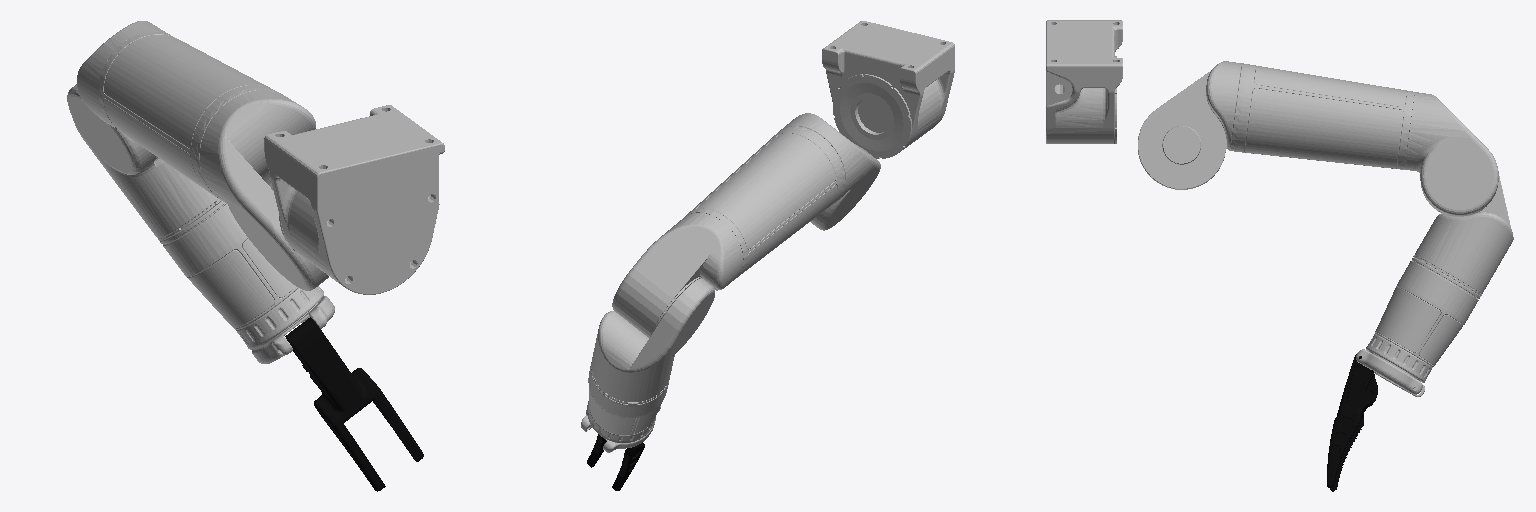
robot.urdf — RS2-1032-segmented-def.SLDASM:
<?xml version="1.0"?>
<!-- This URDF was automatically created by SolidWorks to URDF Exporter! Originally created by [author] ([email redacted]) 
     Commit Version: 1.5.1-0-g916b5db  Build Version: 1.5.7152.31018
     For more information, please see http://wiki.ros.org/sw_urdf_exporter -->
<robot
  name="RS2-1032-segmented-def.SLDASM">
  <link
    name="base_link">
    <inertial>
      <origin
        xyz="0.00016483 0.016209 -0.031073"
        rpy="0 0 0" />
      <mass
        value="1.9526" />
      <inertia
        ixx="0.0025846"
        ixy="2.75E-06"
        ixz="3.4699E-06"
        iyy="0.0022058"
        iyz="8.7505E-05"
        izz="0.0033254" />
    </inertial>
    <visual>
      <origin
        xyz="0 0 0"
        rpy="0 0 0" />
      <geometry>
        <mesh
          filename="package://RS2-1032-segmented-def.SLDASM/meshes/base_link.STL" />
      </geometry>
      <material
        name="">
        <color
          rgba="0.75294 0.75294 0.75294 1" />
      </material>
    </visual>
    <collision>
      <origin
        xyz="0 0 0"
        rpy="0 0 0" />
      <geometry>
        <mesh
          filename="package://RS2-1032-segmented-def.SLDASM/meshes/base_link.STL" />
      </geometry>
    </collision>
  </link>
  <link
    name="1013_base_def_link">
    <inertial>
      <origin
        xyz="0.00846442048222188 -0.0244828952793989 -0.0604426144580424"
        rpy="0 0 0" />
      <mass
        value="2.06786570255906" />
      <inertia
        ixx="0.00330228576538137"
        ixy="0.000296034252344081"
        ixz="0.000245877108833608"
        iyy="0.00216229029272983"
        iyz="-0.000684378910293875"
        izz="0.00283007907340177" />
    </inertial>
    <visual>
      <origin
        xyz="0 0 0"
        rpy="0 0 0" />
      <geometry>
        <mesh
          filename="package://RS2-1032-segmented-def.SLDASM/meshes/1013_base_def_link.STL" />
      </geometry>
      <material
        name="">
        <color
          rgba="0.752941176470588 0.752941176470588 0.752941176470588 1" />
      </material>
    </visual>
    <collision>
      <origin
        xyz="0 0 0"
        rpy="0 0 0" />
      <geometry>
        <mesh
          filename="package://RS2-1032-segmented-def.SLDASM/meshes/1013_base_def_link.STL" />
      </geometry>
    </collision>
  </link>
  <joint
    name="1013_base_def"
    type="continuous">
    <origin
      xyz="0 0.05395 0"
      rpy="1.5708 -0.46319 0" />
    <parent
      link="base_link" />
    <child
      link="1013_base_def_link" />
    <axis
      xyz="0 0 1" />
  </joint>
  <link
    name="1013_to_1015_Link">
    <inertial>
      <origin
        xyz="-0.000487514879235436 -0.0369953948620713 0.151825587376245"
        rpy="0 0 0" />
      <mass
        value="5.09011902544766" />
      <inertia
        ixx="0.0126488889907415"
        ixy="0.000211984162224523"
        ixz="-0.000505692002205725"
        iyy="0.0114931112639823"
        iyz="6.52340603510238E-05"
        izz="0.00531786957771513" />
    </inertial>
    <visual>
      <origin
        xyz="0 0 0"
        rpy="0 0 0" />
      <geometry>
        <mesh
          filename="package://RS2-1032-segmented-def.SLDASM/meshes/1013_to_1015_Link.STL" />
      </geometry>
      <material
        name="">
        <color
          rgba="0.752941176470588 0.752941176470588 0.752941176470588 1" />
      </material>
    </visual>
    <collision>
      <origin
        xyz="0 0 0"
        rpy="0 0 0" />
      <geometry>
        <mesh
          filename="package://RS2-1032-segmented-def.SLDASM/meshes/1013_to_1015_Link.STL" />
      </geometry>
    </collision>
  </link>
  <joint
    name="1013_to_1015"
    type="continuous">
    <origin
      xyz="0.00063815 -0.045996 -0.08105"
      rpy="3.0057 0 0.013873" />
    <parent
      link="1013_base_def_link" />
    <child
      link="1013_to_1015_Link" />
    <axis
      xyz="1 0 0" />
  </joint>
  <link
    name="wrist_link">
    <inertial>
      <origin
        xyz="-0.00582188522450621 -0.033946570329577 0.0461603564021656"
        rpy="0 0 0" />
      <mass
        value="1.38780459487003" />
      <inertia
        ixx="0.00225710635072821"
        ixy="0.00024399002823621"
        ixz="-0.000382469110966876"
        iyy="0.00195339841112262"
        iyz="0.000467729057149552"
        izz="0.00159105030903304" />
    </inertial>
    <visual>
      <origin
        xyz="0 0 0"
        rpy="0 0 0" />
      <geometry>
        <mesh
          filename="package://RS2-1032-segmented-def.SLDASM/meshes/wrist_link.STL" />
      </geometry>
      <material
        name="">
        <color
          rgba="0.752941176470588 0.752941176470588 0.752941176470588 1" />
      </material>
    </visual>
    <collision>
      <origin
        xyz="0 0 0"
        rpy="0 0 0" />
      <geometry>
        <mesh
          filename="package://RS2-1032-segmented-def.SLDASM/meshes/wrist_link.STL" />
      </geometry>
    </collision>
  </link>
  <joint
    name="wrist_joint"
    type="continuous">
    <origin
      xyz="0 -0.0052 0.29055"
      rpy="-1.9629 0 0" />
    <parent
      link="1013_to_1015_Link" />
    <child
      link="wrist_link" />
    <axis
      xyz="1 0 0" />
  </joint>
  <link
    name="Gripper_shell_Link">
    <inertial>
      <origin
        xyz="4.50371247253528E-06 -5.78992402949785E-06 0.00219060495043921"
        rpy="0 0 0" />
      <mass
        value="1.50806599143341" />
      <inertia
        ixx="0.00127659366740391"
        ixy="-2.01803846534523E-09"
        ixz="-6.39820465131428E-08"
        iyy="0.00128628097690415"
        iyz="1.04392496520268E-08"
        izz="0.00105995943105122" />
    </inertial>
    <visual>
      <origin
        xyz="0 0 0"
        rpy="0 0 0" />
      <geometry>
        <mesh
          filename="package://RS2-1032-segmented-def.SLDASM/meshes/Gripper_shell_Link.STL" />
      </geometry>
      <material
        name="">
        <color
          rgba="0.752941176470588 0.752941176470588 0.752941176470588 1" />
      </material>
    </visual>
    <collision>
      <origin
        xyz="0 0 0"
        rpy="0 0 0" />
      <geometry>
        <mesh
          filename="package://RS2-1032-segmented-def.SLDASM/meshes/Gripper_shell_Link.STL" />
      </geometry>
    </collision>
  </link>
  <joint
    name="Gripper_rotation_joint"
    type="continuous">
    <origin
      xyz="0.00085 -0.0408 0.14468"
      rpy="0 0 0.10254" />
    <parent
      link="wrist_link" />
    <child
      link="Gripper_shell_Link" />
    <axis
      xyz="0 0 1" />
  </joint>
  <link
    name="outer_jaw_link">
    <inertial>
      <origin
        xyz="-6.71044070865712E-08 -0.016911154862324 -0.0527047050815737"
        rpy="0 0 0" />
      <mass
        value="0.162220004429464" />
      <inertia
        ixx="0.000175262774111366"
        ixy="-9.13801796657195E-11"
        ixz="1.51217957387224E-10"
        iyy="0.000207264645543673"
        iyz="-3.35885580014535E-05"
        izz="6.41428269506169E-05" />
    </inertial>
    <visual>
      <origin
        xyz="0 0 0"
        rpy="0 0 0" />
      <geometry>
        <mesh
          filename="package://RS2-1032-segmented-def.SLDASM/meshes/outer_jaw_link.STL" />
      </geometry>
      <material
        name="">
        <color
          rgba="0.0941176470588235 0.0941176470588235 0.0941176470588235 1" />
      </material>
    </visual>
    <collision>
      <origin
        xyz="0 0 0"
        rpy="0 0 0" />
      <geometry>
        <mesh
          filename="package://RS2-1032-segmented-def.SLDASM/meshes/outer_jaw_link.STL" />
      </geometry>
    </collision>
  </link>
  <joint
    name="outer_jaw_joint"
    type="continuous">
    <origin
      xyz="0 -0.033 0.069764"
      rpy="-3.1177 0 0" />
    <parent
      link="Gripper_shell_Link" />
    <child
      link="outer_jaw_link" />
    <axis
      xyz="1 0 0" />
  </joint>
  <link
    name="inner_jaw_link">
    <inertial>
      <origin
        xyz="-0.000499945320877902 -0.0168214296120889 -0.052130148670525"
        rpy="0 0 0" />
      <mass
        value="0.151326462558286" />
      <inertia
        ixx="0.00017374137210143"
        ixy="7.13711135030736E-11"
        ixz="1.81002026488759E-10"
        iyy="0.000180459971786324"
        iyz="-3.37841879506283E-05"
        izz="3.82414517967857E-05" />
    </inertial>
    <visual>
      <origin
        xyz="0 0 0"
        rpy="0 0 0" />
      <geometry>
        <mesh
          filename="package://RS2-1032-segmented-def.SLDASM/meshes/inner_jaw_link.STL" />
      </geometry>
      <material
        name="">
        <color
          rgba="0.0941176470588235 0.0941176470588235 0.0941176470588235 1" />
      </material>
    </visual>
    <collision>
      <origin
        xyz="0 0 0"
        rpy="0 0 0" />
      <geometry>
        <mesh
          filename="package://RS2-1032-segmented-def.SLDASM/meshes/inner_jaw_link.STL" />
      </geometry>
    </collision>
  </link>
  <joint
    name="Inner_jaw_joint"
    type="continuous">
    <origin
      xyz="0 0.033 0.069764"
      rpy="3.1262 0 -3.1416" />
    <parent
      link="Gripper_shell_Link" />
    <child
      link="inner_jaw_link" />
    <axis
      xyz="1 0 0" />
  </joint>
</robot>

--- Facts derived from the render (not from the file) ---
Views: 3 orthographic renders of the robot side by side, from view 1: azimuth 30°, elevation 25°; view 2: azimuth 150°, elevation 25°; view 3: azimuth 270°, elevation 25°.
Model RS2-1032-segmented-def.SLDASM with 7 links and 6 joints (6 continuous), rooted at base_link, posed every joint at zero.
Visible links, largest first — view 1: 1013_to_1015_Link, base_link, Gripper_shell_Link, wrist_link, inner_jaw_link; view 2: 1013_to_1015_Link, base_link, wrist_link, Gripper_shell_Link, inner_jaw_link; view 3: 1013_to_1015_Link, base_link, Gripper_shell_Link, wrist_link, inner_jaw_link.
Link boxes in pixels (x1,y1,x2,y2): 1013_to_1015_Link: (77,21,328,290); base_link: (264,105,444,294); Gripper_shell_Link: (160,201,334,363); wrist_link: (67,84,220,240); inner_jaw_link: (285,317,423,491); 1013_to_1015_Link: (612,113,880,337); base_link: (822,21,954,158); wrist_link: (591,278,714,402); Gripper_shell_Link: (581,362,669,452); inner_jaw_link: (587,434,644,490); 1013_to_1015_Link: (1138,61,1498,215); base_link: (1046,20,1122,143); Gripper_shell_Link: (1356,258,1479,396); wrist_link: (1413,176,1513,296); inner_jaw_link: (1327,354,1377,491).
Size in the robot's own frame: 0.2622 by 0.4856 by 0.4358 metres.
5 mesh visuals loaded from 7 distinct referenced files (5 binary STL); not drawn: 2 (reference not matched to a file when rendering).